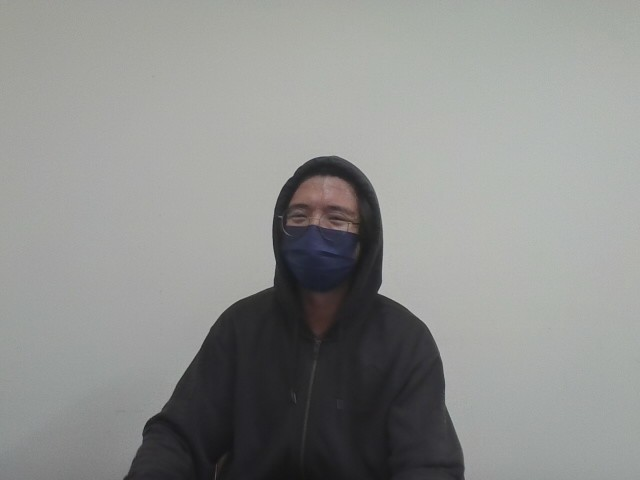No_Helmet: (267, 152, 384, 295)
person: (81, 133, 495, 480)
